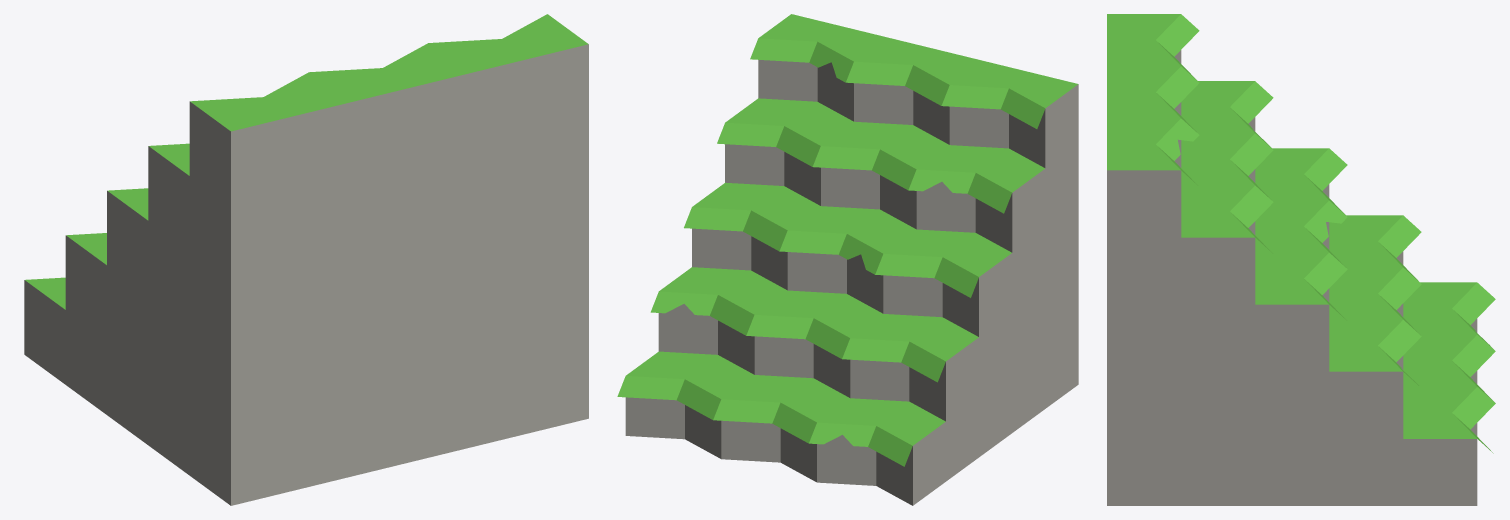
The model's file is cliff_steps_stone.glb.
The picture shows the model from 3 angles, left to right: view 1: azimuth 30°, elevation 25°; view 2: azimuth 150°, elevation 25°; view 3: azimuth 270°, elevation 25°; orthographic projection. The views are drawn at different scales.
Visible parts, largest first — view 1: cliff_steps_stone; view 2: cliff_steps_stone; view 3: cliff_steps_stone.
Boxes of the visible parts, left/top/right/bottom form: cliff_steps_stone: left=24, top=14, right=588, bottom=505; cliff_steps_stone: left=617, top=14, right=1078, bottom=505; cliff_steps_stone: left=1107, top=14, right=1495, bottom=505.
Size of the model in its own units: 1 by 1 by 1.05.
